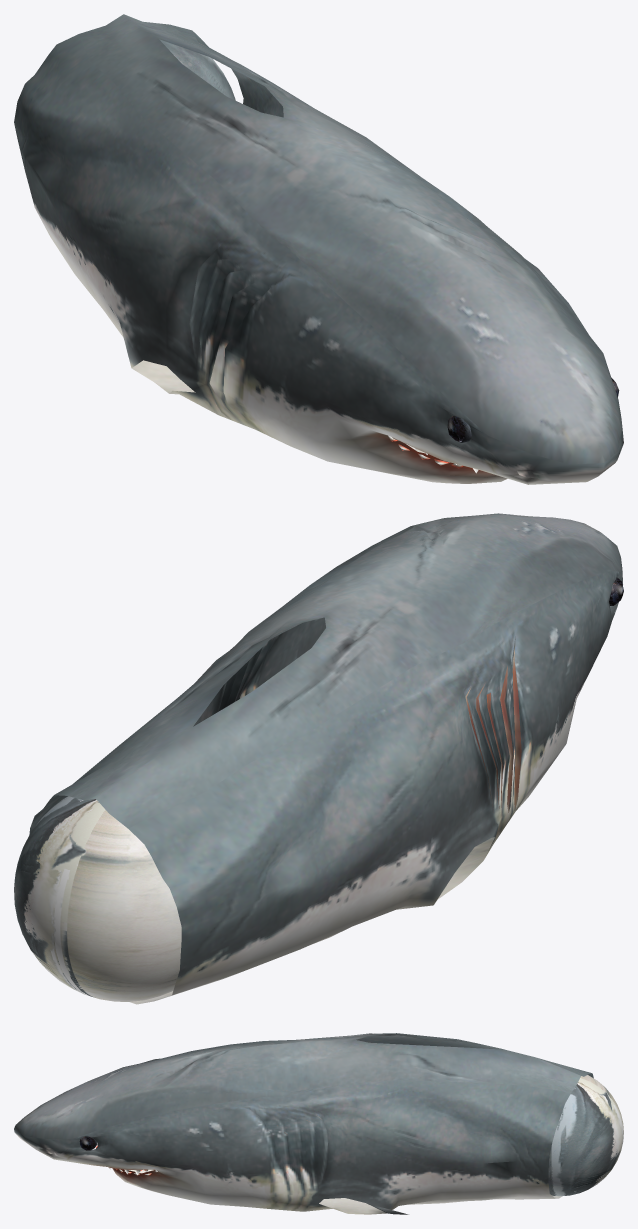
File: CuerpoTiburon.obj
3 views of the same model, one above another, from view 1: azimuth 30°, elevation 25°; view 2: azimuth 150°, elevation 25°; view 3: azimuth 270°, elevation 25° (orthographic). The views are drawn at different scales.
Parts seen in each view (by area): view 1: CuerpoTiburon; view 2: CuerpoTiburon; view 3: CuerpoTiburon.
Part boxes in pixels (x1=…): CuerpoTiburon: x1=14, y1=14, x2=623, y2=484; CuerpoTiburon: x1=14, y1=513, x2=623, y2=1004; CuerpoTiburon: x1=14, y1=1033, x2=623, y2=1214.
Bounding box in the file's own units: 12.16 × 11.15 × 39.73.
2 materials, 2 textured.
